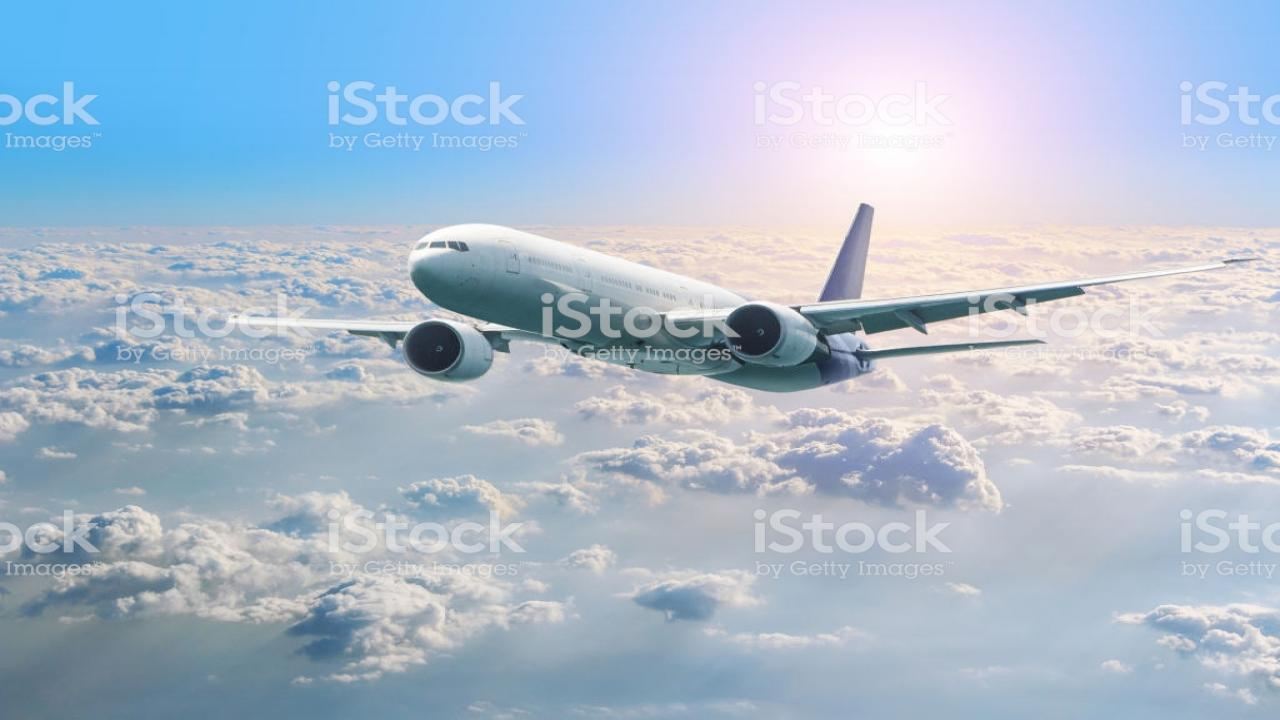Airplane: (216, 186, 1272, 402)
